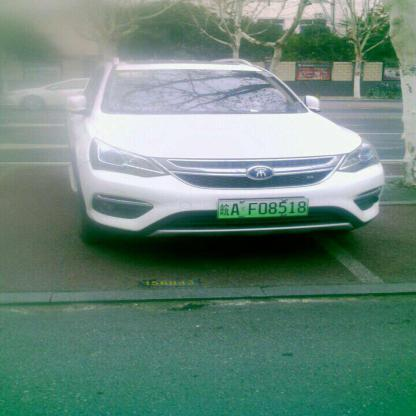lp: (219, 198, 307, 217)
